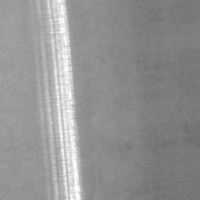scratches: (30, 25, 91, 199)
